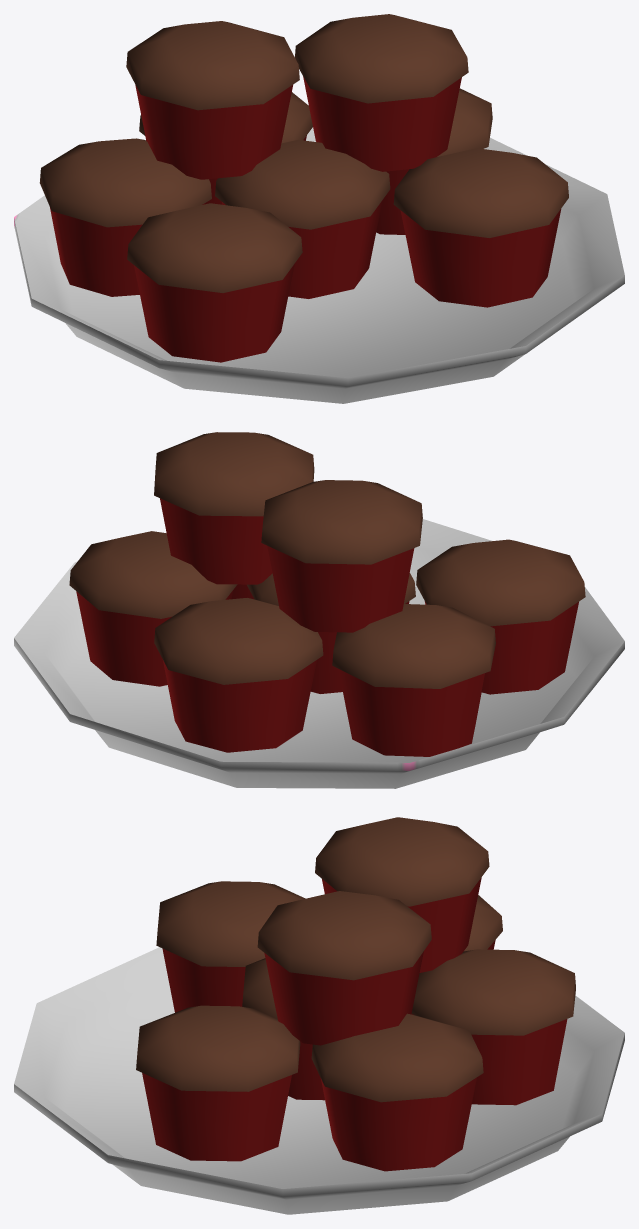
File: furniture_decor_210024.glb
The picture shows the model from 3 angles, top to bottom: view 1: azimuth 30°, elevation 25°; view 2: azimuth 150°, elevation 25°; view 3: azimuth 270°, elevation 25°; orthographic projection. The views are drawn at different scales.
Parts seen in each view (by area): view 1: furniture_decor_210024; view 2: furniture_decor_210024; view 3: furniture_decor_210024.
Part boxes in pixels (x1=…): furniture_decor_210024: x1=14, y1=14, x2=624, y2=403; furniture_decor_210024: x1=14, y1=432, x2=624, y2=788; furniture_decor_210024: x1=14, y1=817, x2=624, y2=1214.
Size of the model in its own units: 0.2812 by 0.118 by 0.2777.
1 material, 1 textured.
